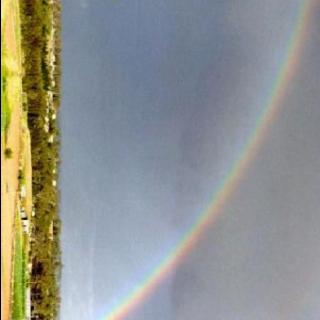Stratus: (59, 0, 320, 320)
